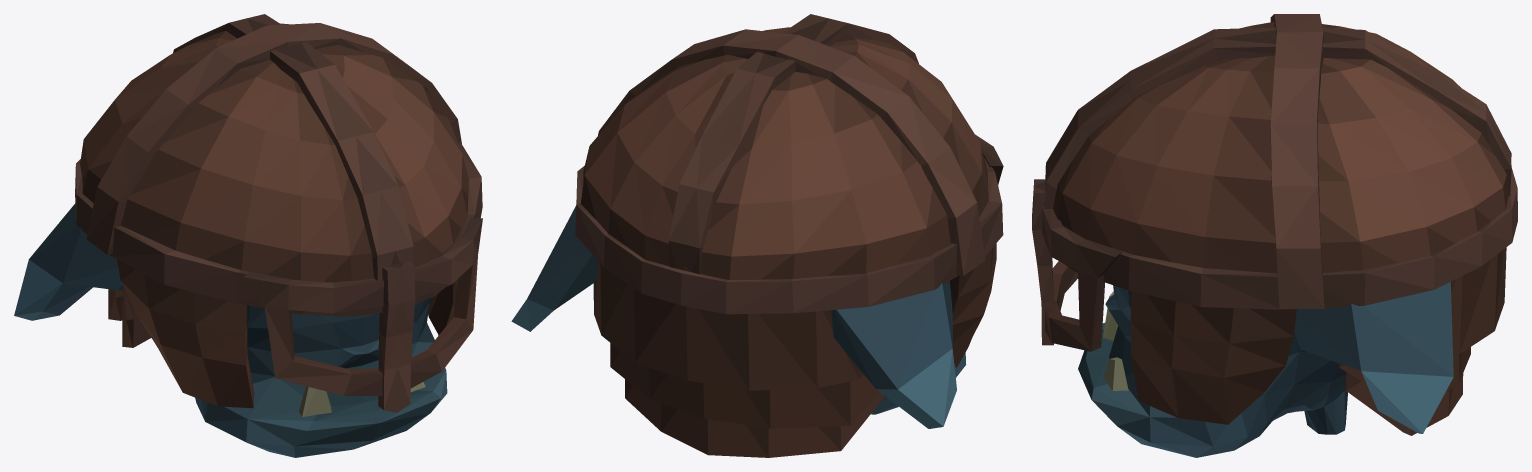
The model's file is Goblin_Blue_Head_Helm_3.fbx.
3 views of the same model, side by side, from view 1: azimuth 30°, elevation 25°; view 2: azimuth 150°, elevation 25°; view 3: azimuth 270°, elevation 25° (orthographic). The views are drawn at different scales.
Visible parts, largest first — view 1: Goblin_Blue_Head_Helm_3; view 2: Goblin_Blue_Head_Helm_3; view 3: Goblin_Blue_Head_Helm_3.
Boxes of the visible parts, x1,y1,x2,y2 form: Goblin_Blue_Head_Helm_3: (14,14,482,457); Goblin_Blue_Head_Helm_3: (511,14,1003,457); Goblin_Blue_Head_Helm_3: (1032,14,1517,457).
Bounding box in the file's own units: 1.39 × 1.23 × 1.33.
